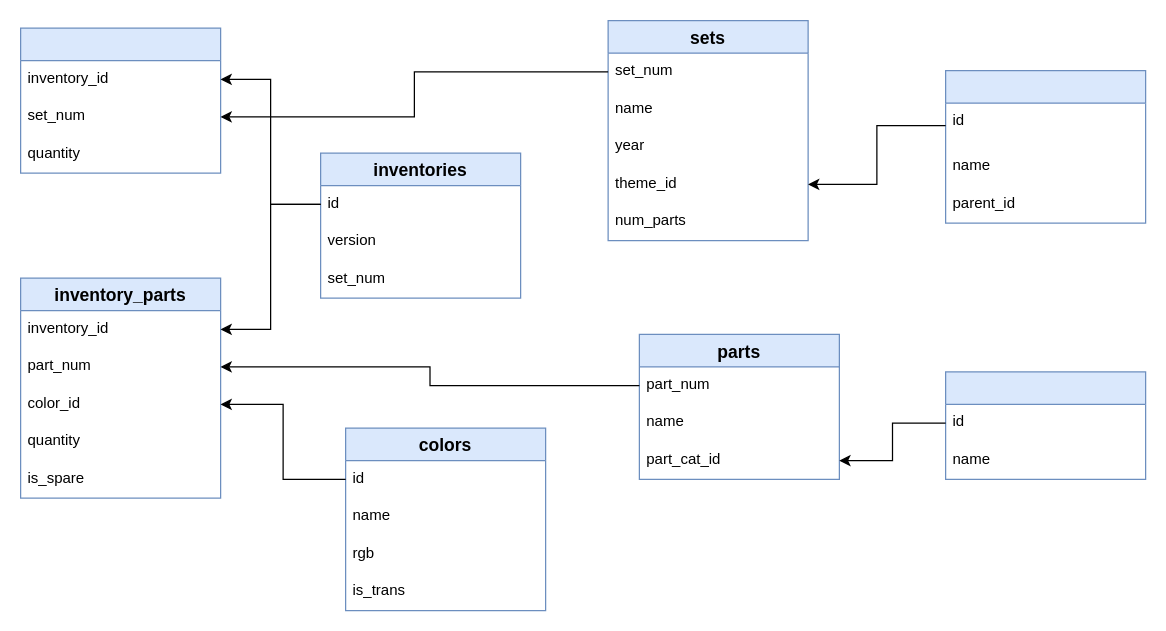
Some shapes in this 1166 by 631 pixel diagram are drawn without their labels. The shapes that lost their labels are listed below. From the top down, each one's box as (x1, y1, x2, y2) in pixels, then its label:
(19, 27, 221, 173): inventory_sets
(944, 69, 1146, 223): themes
(944, 371, 1146, 479): part_category
